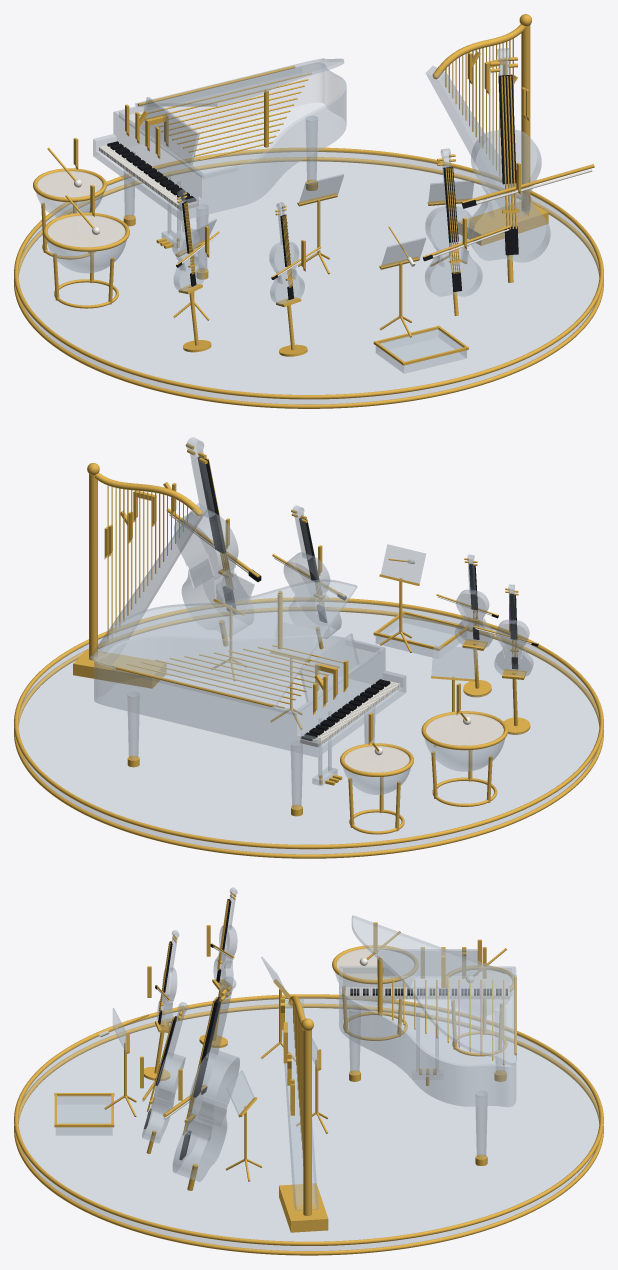
File: crystal_orchestra.glb
3 views of the same model, one above another, from view 1: azimuth 30°, elevation 25°; view 2: azimuth 150°, elevation 25°; view 3: azimuth 270°, elevation 25° (orthographic).
Visible parts, largest first — view 1: crystal_orchestra (×7); view 2: crystal_orchestra (×6); view 3: crystal_orchestra (×6).
Boxes of the visible parts, x1,y1,x2,y2 form: crystal_orchestra (×7): (14,14,603,408); crystal_orchestra (×6): (14,437,603,858); crystal_orchestra (×6): (14,887,603,1255).
Bounding box in the file's own units: 0.3728 × 0.1589 × 0.3728.
